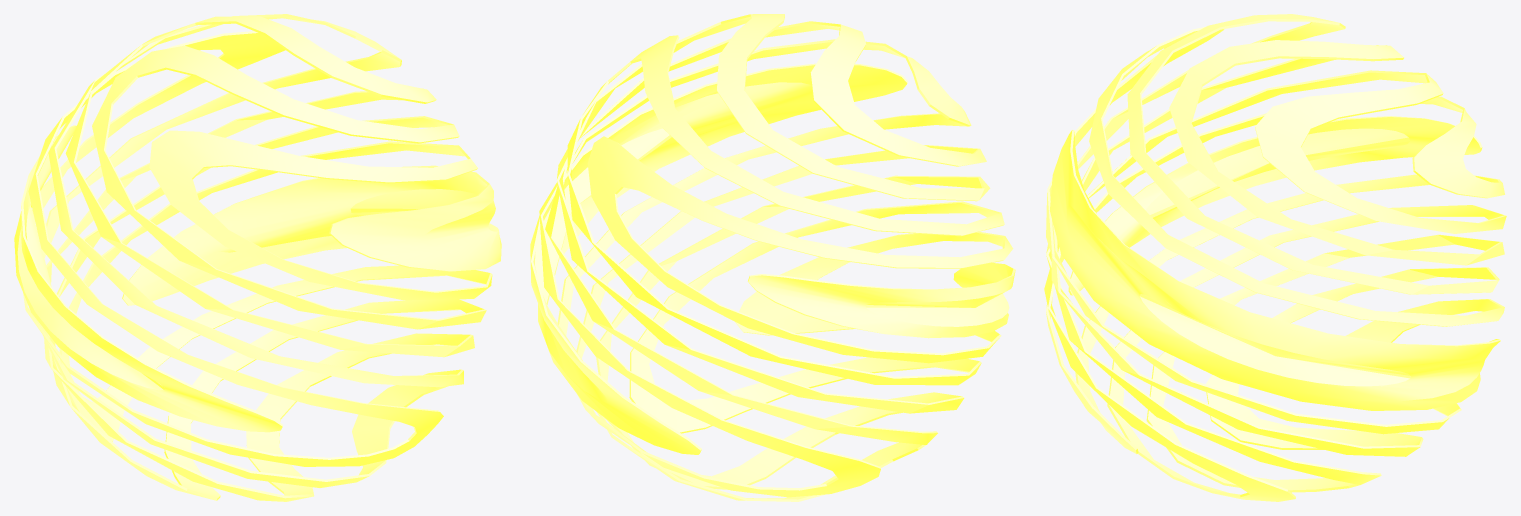
File: DreadBomberProjectile.fbx
The picture shows the model from 3 angles, left to right: view 1: azimuth 30°, elevation 25°; view 2: azimuth 150°, elevation 25°; view 3: azimuth 270°, elevation 25°; orthographic projection.
Parts seen in each view (by area): view 1: Sphere; view 2: Sphere; view 3: Sphere.
Part boxes in pixels (left/top/right/bottom): Sphere: left=14, top=14, right=501, bottom=501; Sphere: left=530, top=14, right=1015, bottom=501; Sphere: left=1044, top=14, right=1506, bottom=501.
Bounding box in the file's own units: 199 × 198 × 188.
